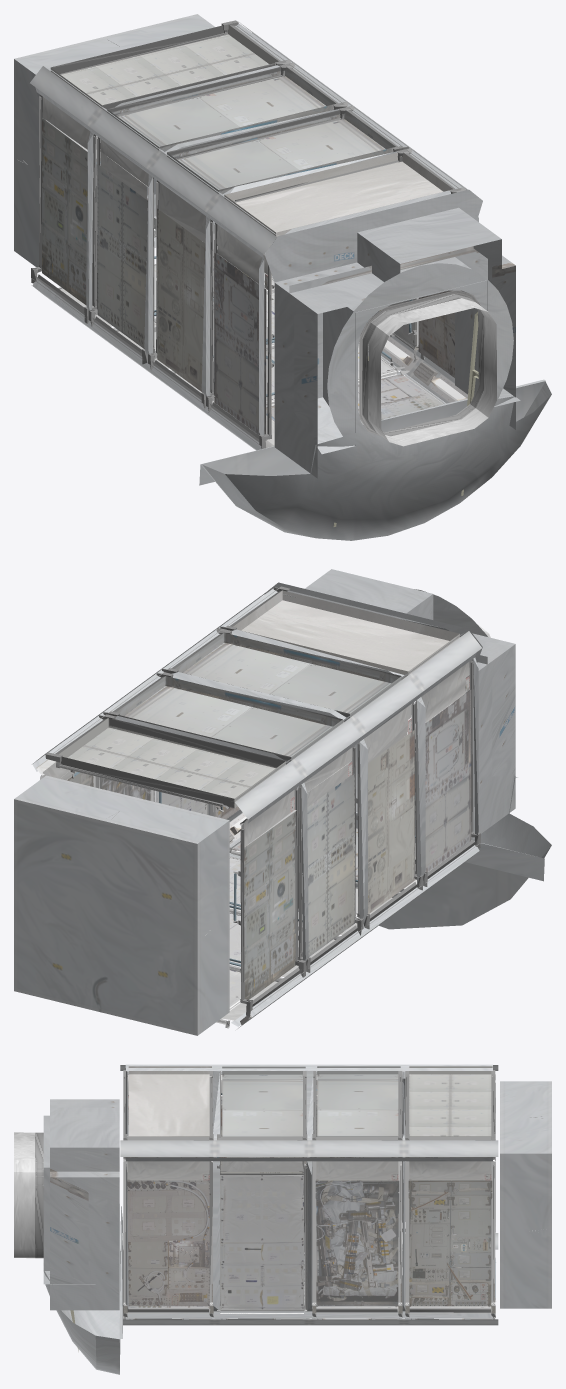
Rendered from eu_lab.dae.
3 renders of one model, top to bottom at view 1: azimuth 30°, elevation 25°; view 2: azimuth 150°, elevation 25°; view 3: azimuth 270°, elevation 25°, orthographic. The views are drawn at different scales.
Parts seen in each view (by area): view 1: Module_Connect_004; view 2: Module_Connect_004; view 3: Module_Connect_004.
Boxes of the visible parts, <box> form: Module_Connect_004: <box>14,14,551,540</box>; Module_Connect_004: <box>14,569,551,1035</box>; Module_Connect_004: <box>14,1064,551,1374</box>.
Bounding box in the file's own units: 3.32 × 5.56 × 2.94.
8 materials, 8 textured.
